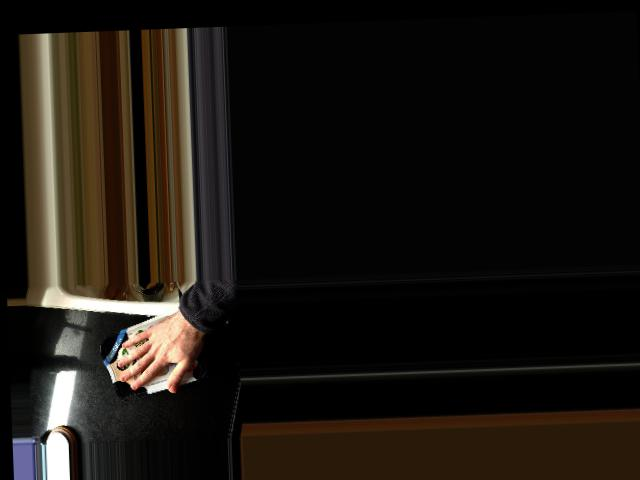cheese: (96, 304, 209, 402)
